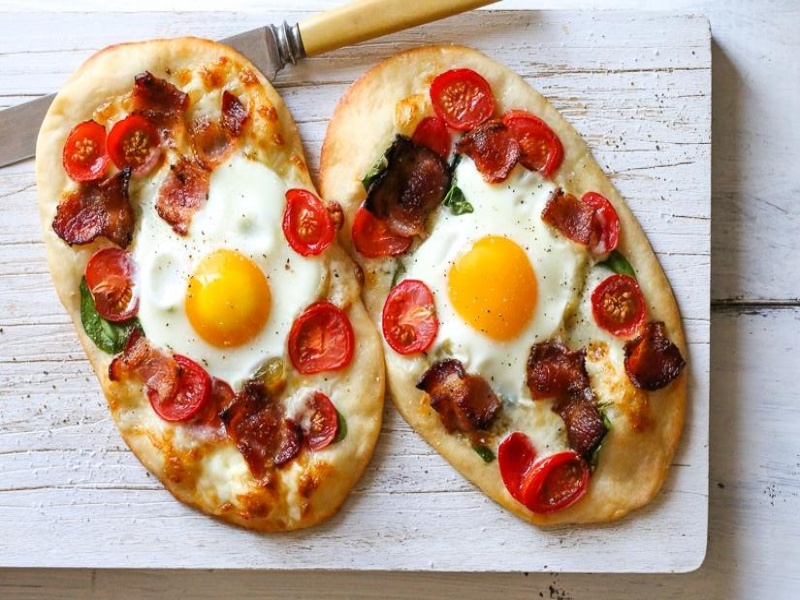oeuf: (433, 208, 557, 354), (163, 238, 281, 361)
